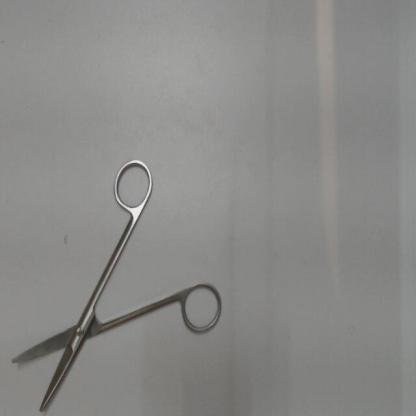Curved Mayo Scissors: (4, 154, 230, 414)
